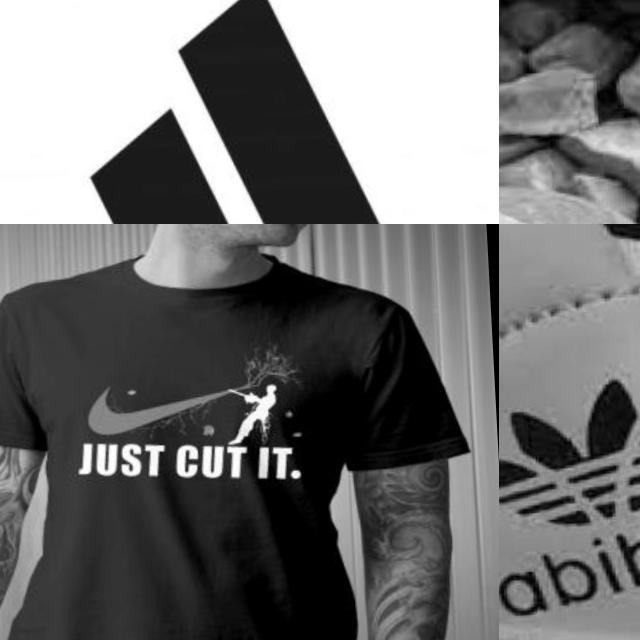ADIDAS_fake: (499, 342, 640, 625), (499, 144, 605, 224)
ADIDAS_original: (0, 0, 449, 224)
NIKE_fake: (43, 304, 328, 511)
